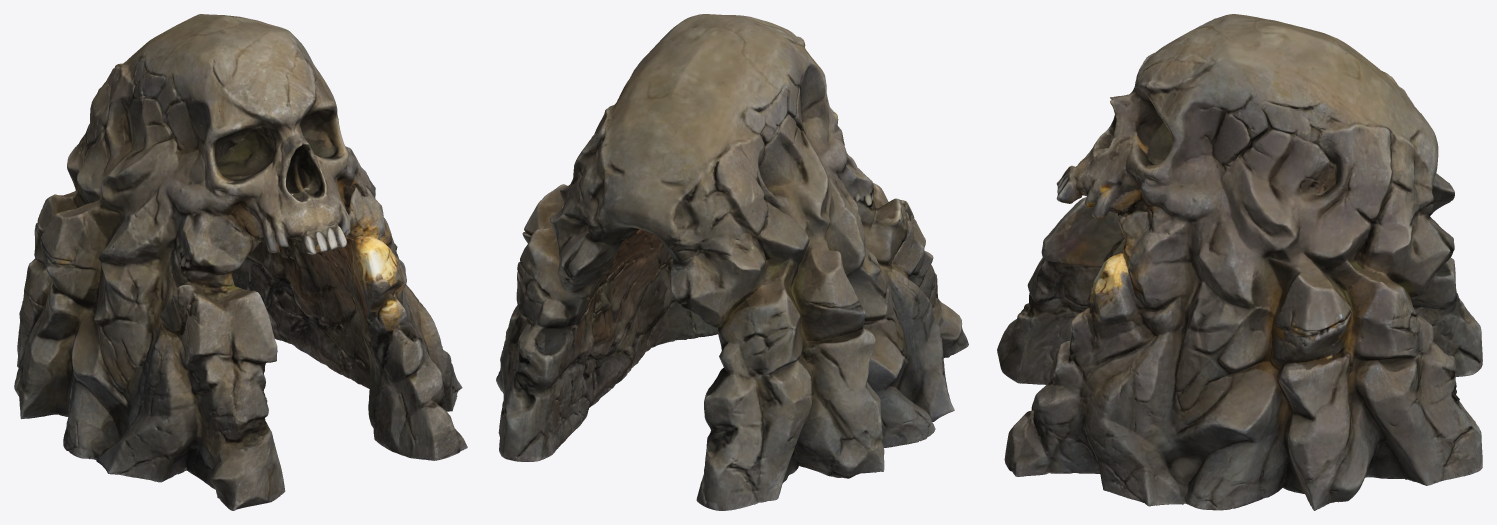
File: cave_entrance.glb
3 views of the same model, side by side, from view 1: azimuth 30°, elevation 25°; view 2: azimuth 150°, elevation 25°; view 3: azimuth 270°, elevation 25° (orthographic). The views are drawn at different scales.
Visible parts, largest first — view 1: Object_6, Object_8, Object_9, Object_4, Object_5, Object_7, Object_10, Object_11; view 2: Object_8, Object_4, Object_10, Object_6, Object_5, Object_7, Object_9, Object_11; view 3: Object_7, Object_8, Object_10, Object_6, Object_5, Object_4, Object_9, Object_11.
Boxes of the visible parts, left/top/right/bottom form: Object_6: left=28, top=43, right=407, bottom=489; Object_8: left=20, top=14, right=452, bottom=482; Object_9: left=52, top=54, right=464, bottom=510; Object_4: left=17, top=41, right=461, bottom=477; Object_5: left=17, top=41, right=467, bottom=453; Object_7: left=15, top=18, right=458, bottom=501; Object_10: left=14, top=14, right=462, bottom=473; Object_11: left=21, top=15, right=397, bottom=452; Object_8: left=499, top=32, right=950, bottom=503; Object_4: left=496, top=20, right=954, bottom=510; Object_10: left=498, top=23, right=948, bottom=510; Object_6: left=499, top=15, right=943, bottom=489; Object_5: left=501, top=29, right=904, bottom=501; Object_7: left=500, top=14, right=962, bottom=510; Object_9: left=503, top=31, right=968, bottom=442; Object_11: left=546, top=17, right=932, bottom=457; Object_7: left=1006, top=17, right=1482, bottom=495; Object_8: left=1028, top=17, right=1456, bottom=502; Object_10: left=1142, top=32, right=1482, bottom=509; Object_6: left=1027, top=28, right=1482, bottom=510; Object_5: left=1008, top=14, right=1472, bottom=505; Object_4: left=1041, top=15, right=1481, bottom=510; Object_9: left=997, top=52, right=1454, bottom=499; Object_11: left=1198, top=14, right=1317, bottom=509.
Bounding box in the file's own units: 1.78 × 1.68 × 1.9.
Materials: 1 (1 with a texture image).
